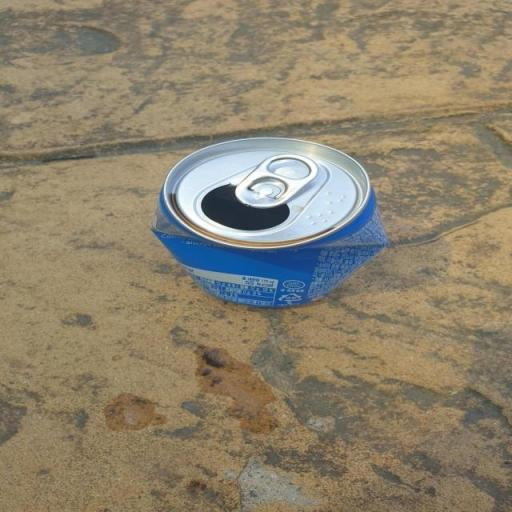metal: (112, 129, 398, 368)
